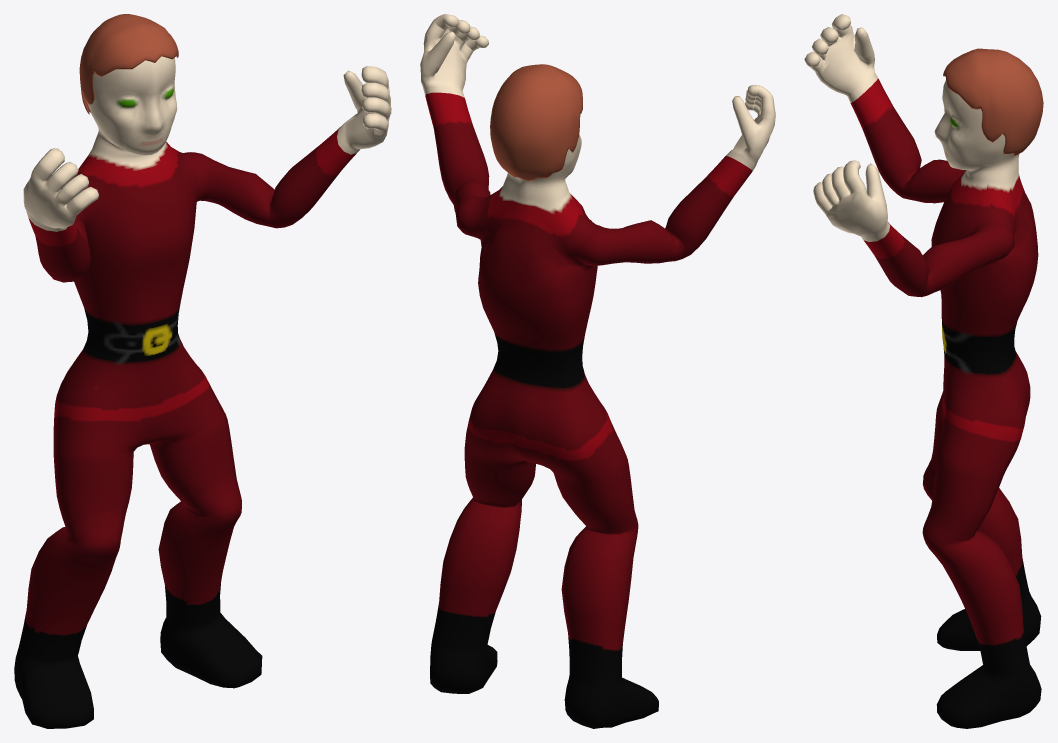
The model's file is SorecrorMenus.dae.
The picture shows the model from 3 angles, left to right: view 1: azimuth 30°, elevation 25°; view 2: azimuth 150°, elevation 25°; view 3: azimuth 270°, elevation 25°; orthographic projection. The views are drawn at different scales.
Parts seen in each view (by area): view 1: SorcerorForMenus; view 2: SorcerorForMenus; view 3: SorcerorForMenus.
Boxes of the visible parts, <box> form: SorcerorForMenus: <box>14,14,391,728</box>; SorcerorForMenus: <box>420,14,775,728</box>; SorcerorForMenus: <box>804,14,1043,728</box>.
Bounding box in the file's own units: 1.09 × 0.665 × 1.92.
Materials: 2 (1 with a texture image).
